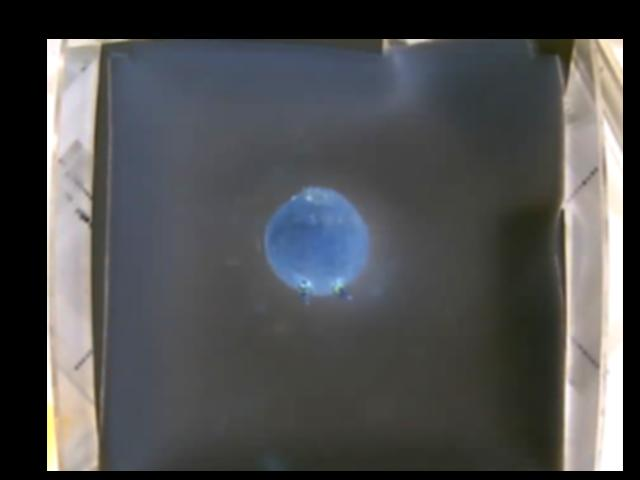Potato: (265, 186, 368, 301)
